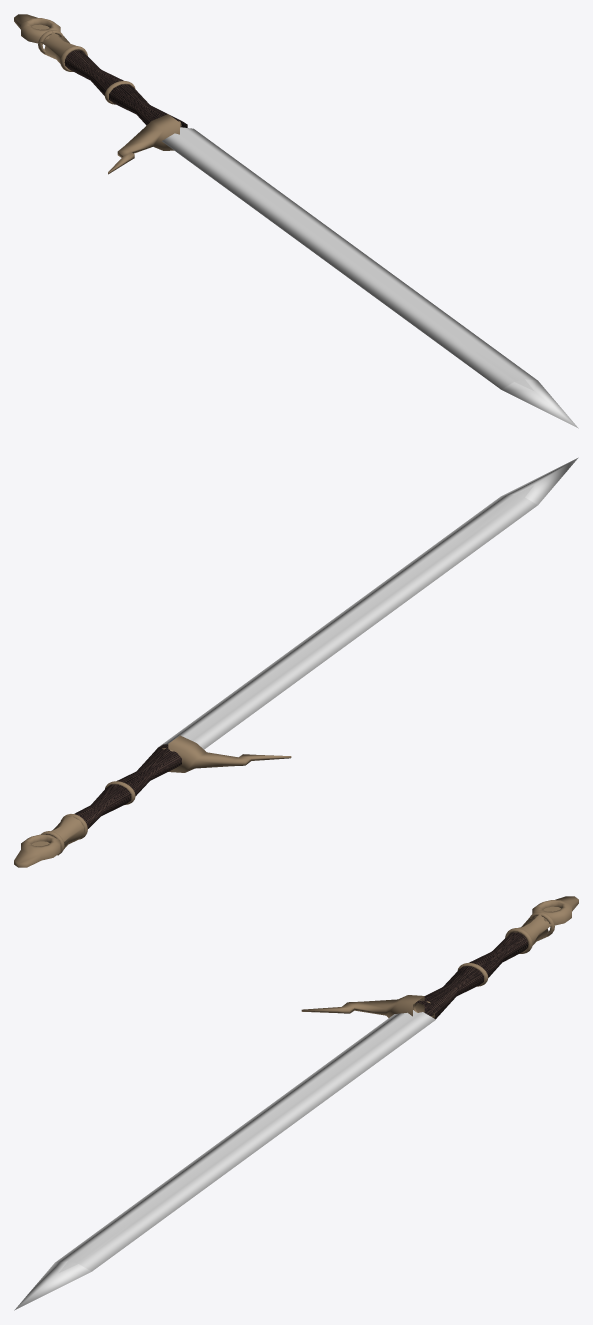
Rendered from sword1.glb.
3 views of the same model, one above another, from view 1: azimuth 30°, elevation 25°; view 2: azimuth 150°, elevation 25°; view 3: azimuth 330°, elevation 25° (orthographic).
Visible parts, largest first — view 1: Cube, Cylinder, Cylinder.003, Cylinder.002; view 2: Cube, Cylinder, Cylinder.003, Cylinder.002, Cylinder.001; view 3: Cube, Cylinder, Cylinder.003, Cylinder.002, Cylinder.001.
Boxes of the visible parts, <box> form: Cube: <box>162,127,578,428</box>; Cylinder: <box>64,50,187,127</box>; Cylinder.003: <box>108,114,179,174</box>; Cylinder.002: <box>14,14,60,43</box>; Cube: <box>157,457,578,749</box>; Cylinder: <box>74,744,181,828</box>; Cylinder.003: <box>168,735,291,772</box>; Cylinder.002: <box>14,834,60,867</box>; Cylinder.001: <box>51,816,83,855</box>; Cube: <box>14,1010,435,1310</box>; Cylinder: <box>415,932,528,1019</box>; Cylinder.003: <box>301,995,424,1017</box>; Cylinder.002: <box>532,896,578,925</box>; Cylinder.001: <box>518,912,553,945</box>.
Size of the model in its own units: 1.07 by 0.26 by 9.45.
Materials: 6 (1 with a texture image).
